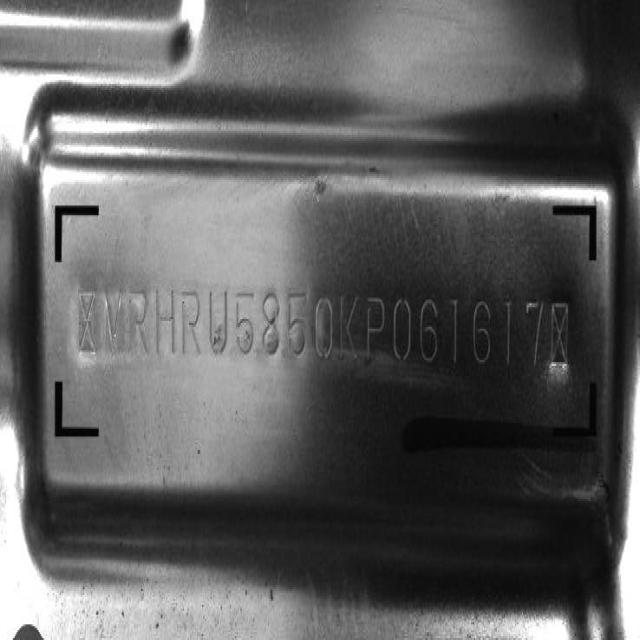ocr: (78, 275, 576, 395)
